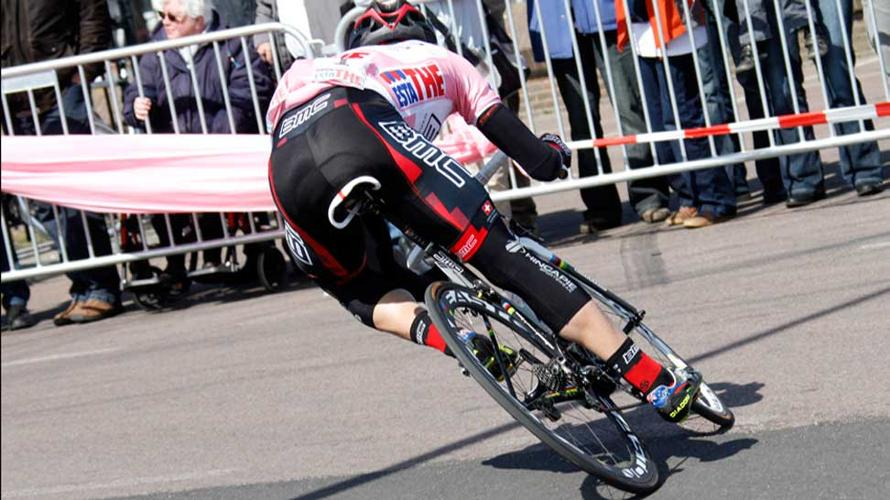person: (264, 39, 701, 422)
